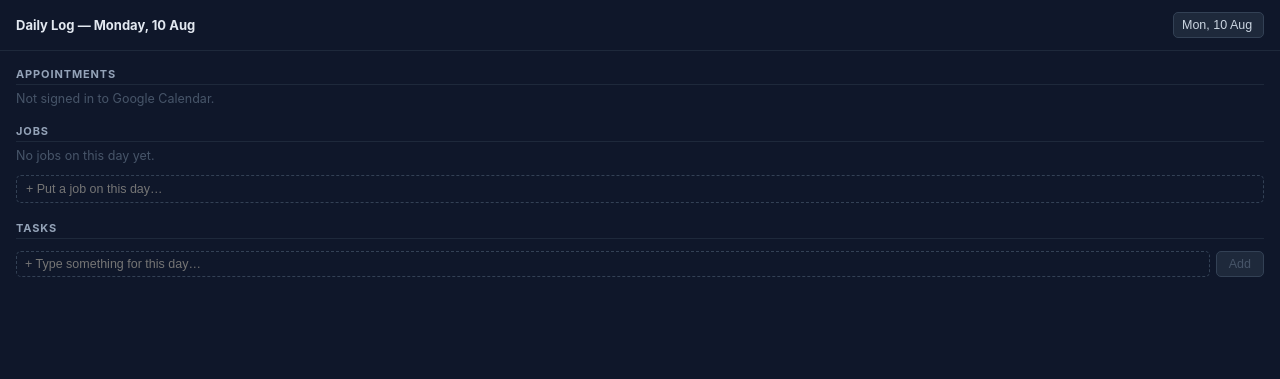
Test: the "+ Put a job on this day…" picker › heads each job once and lists its pieces by bench underneath
This screenshot has width=1280, height=379.
Type "1714" into the field named "Search the week". click: [640, 189]
box: [16,175,1264,203]
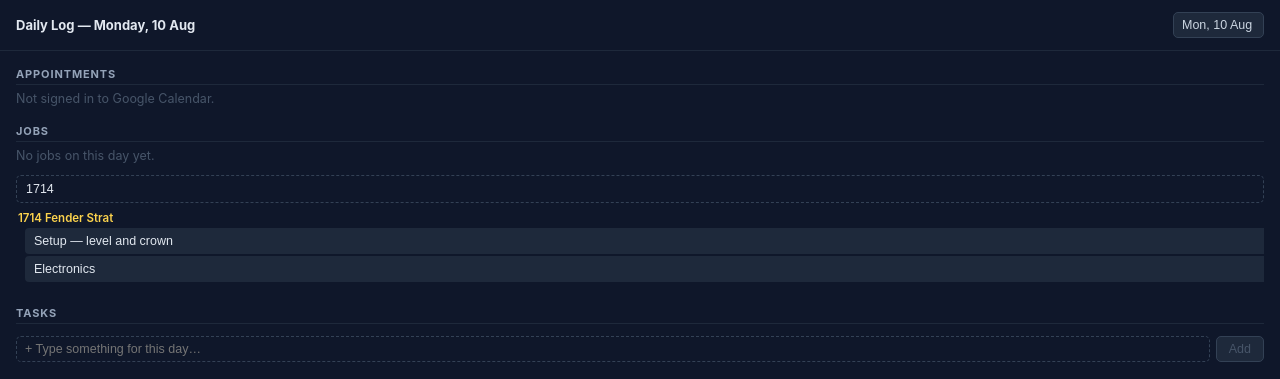
Expected: the text "1714 Fender Strat" is shown once, [18,211,113,225]
